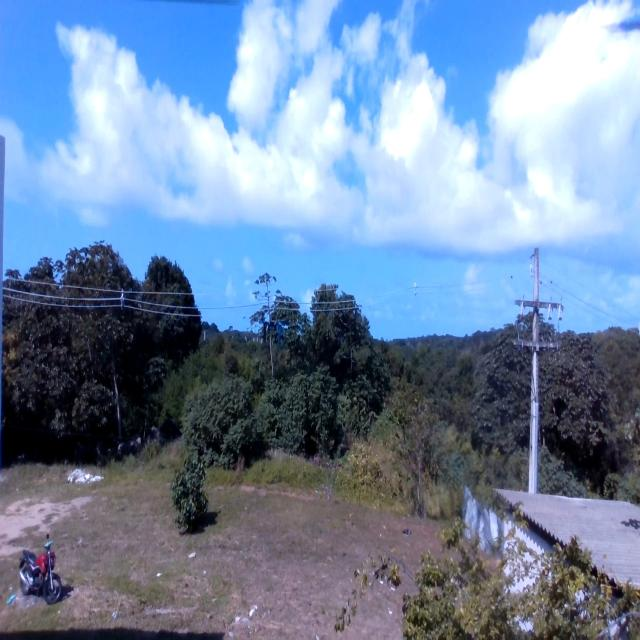-uav-: (263, 298, 311, 370)
